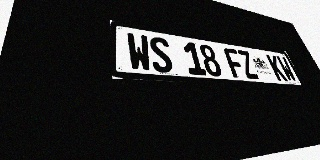1: (181, 41, 207, 76)
8: (198, 44, 223, 77)
F: (223, 47, 247, 78)
K: (266, 54, 288, 81)
S: (148, 36, 174, 73)
W: (126, 32, 153, 72), (276, 56, 298, 82)
Z: (236, 50, 260, 79)
